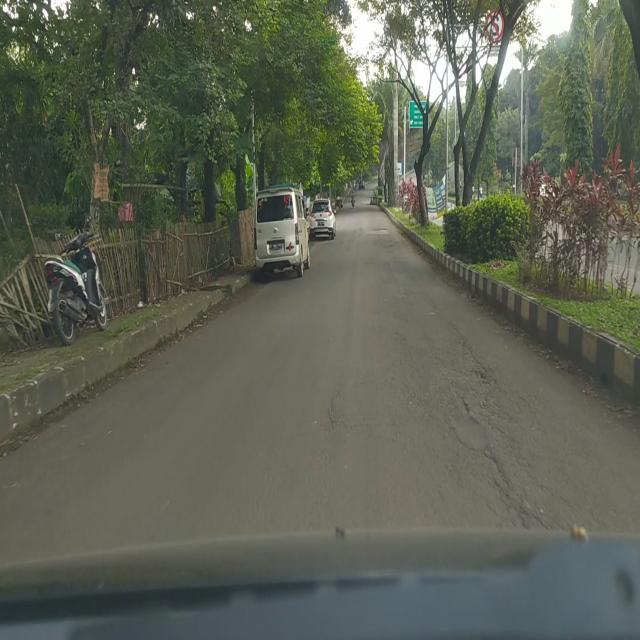Drain Hole: (428, 299, 550, 527)
